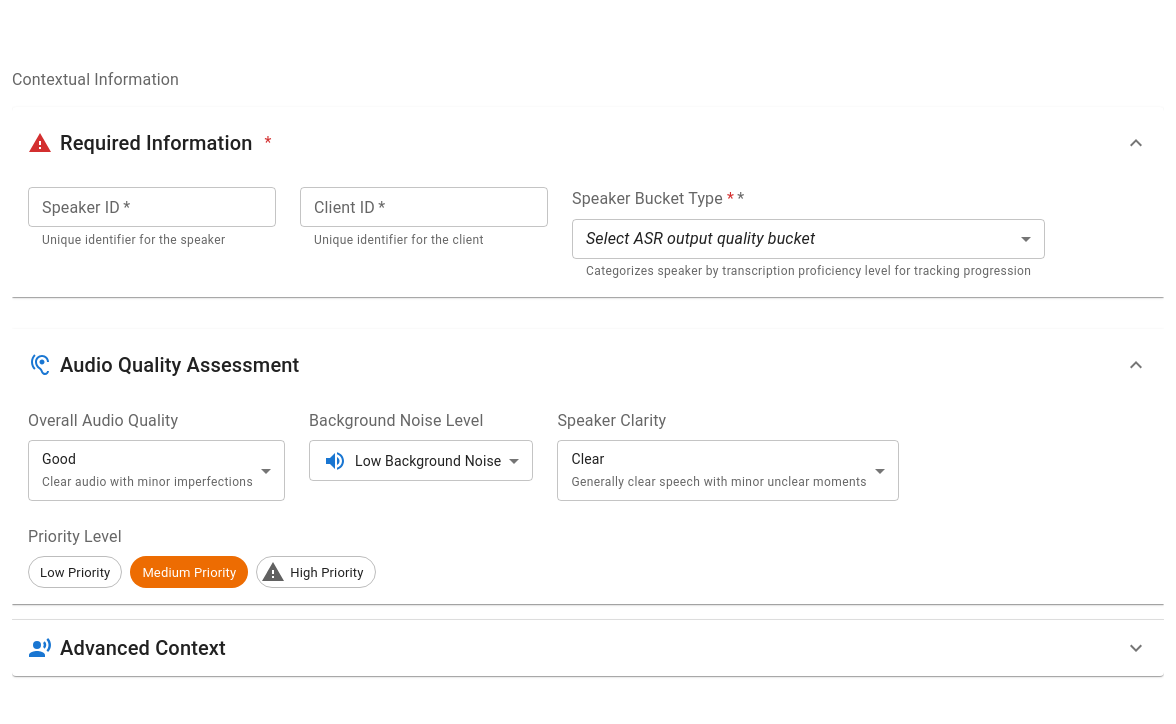
Test: MetadataInput › Advanced Context Section › allows expanding and collapsing advanced section
Click the button "Advanced Context" at (143, 648), box 12,620 -> 1164,676
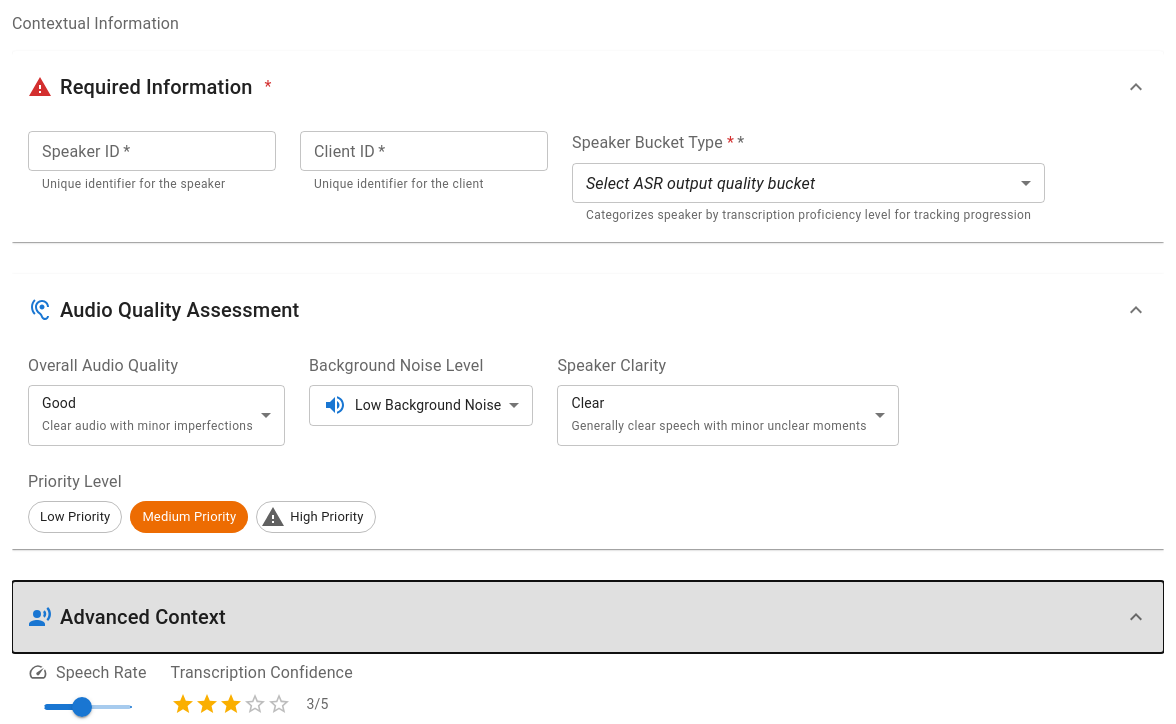
Check: the text "Speech Rate" is shown, box 28,661 -> 146,684
Check: the text "Transcription Confidence" is shown, box 170,661 -> 353,684
